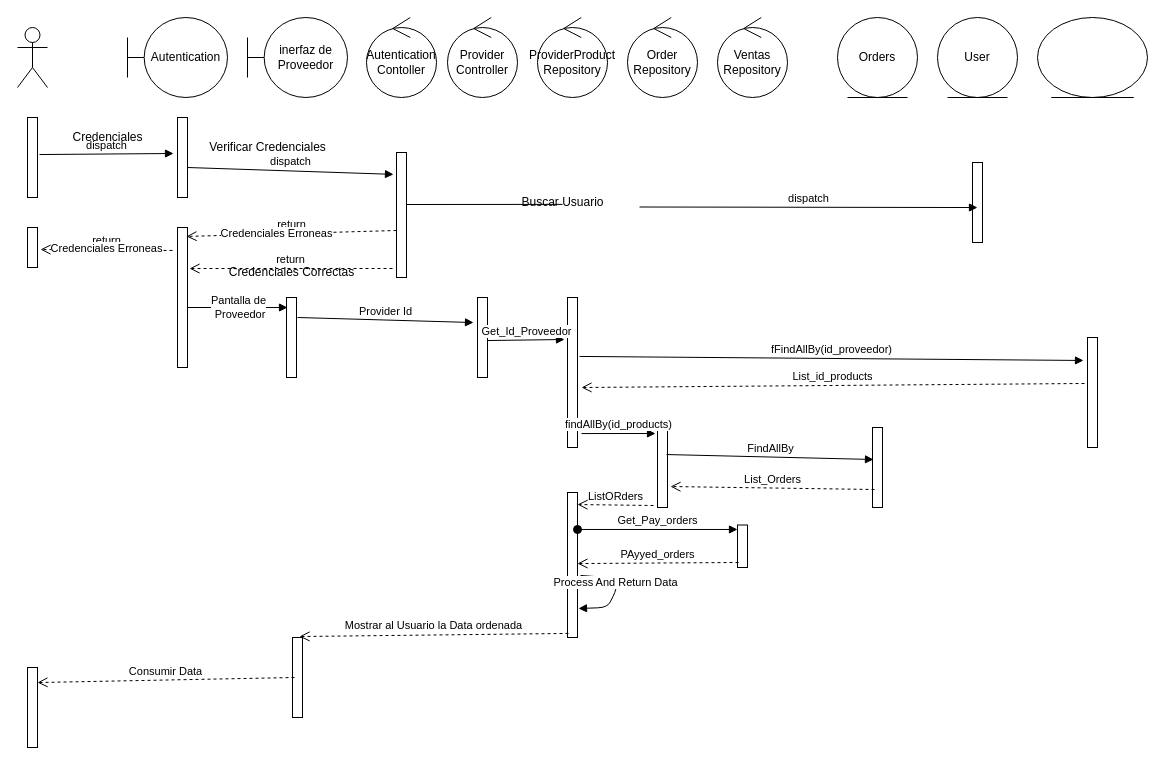
The diagram is 1165 pixels wide and 765 high, and some of its shapes have lost their labels. The box of each missing label's shape, as (x1, y1, x2, y2) in pixels:
Actor: (16, 26, 48, 88)
Provider_product: (1036, 16, 1148, 98)
